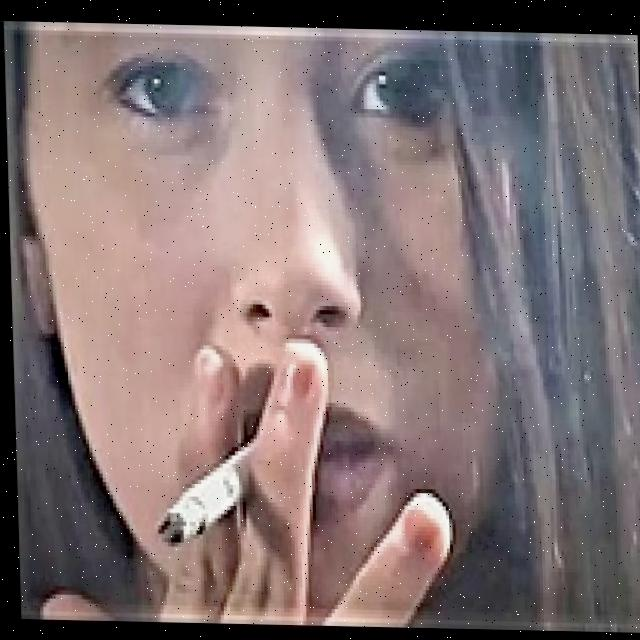cigarette: (150, 434, 269, 551)
